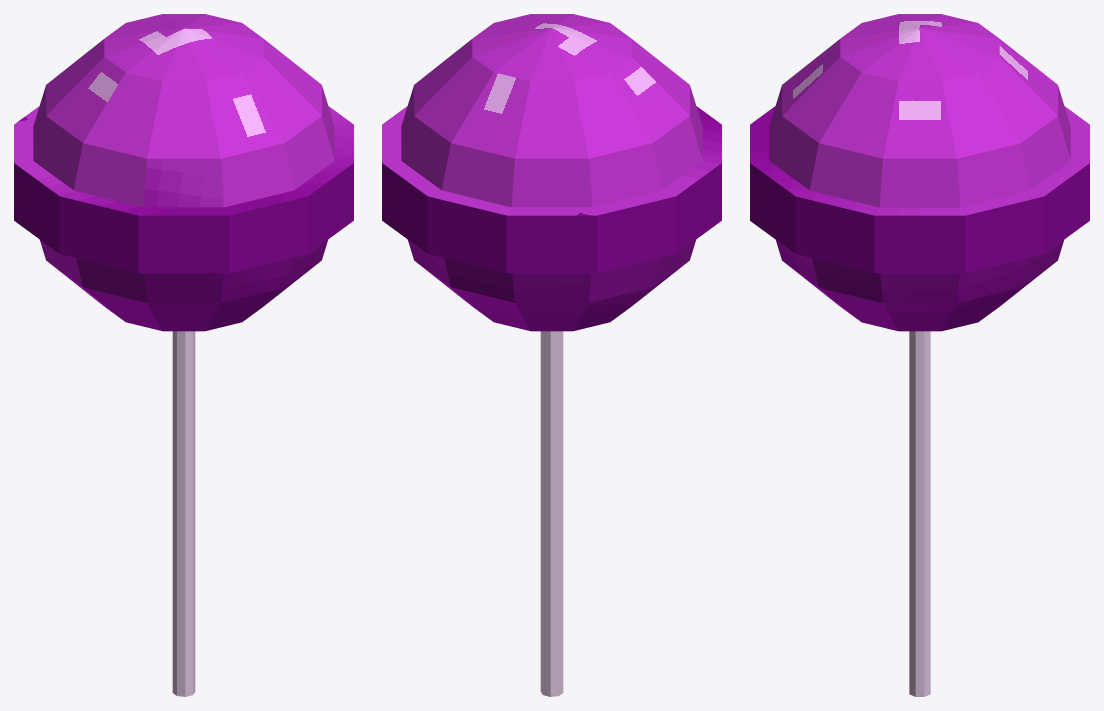
The model's file is Lolipop Purple.gltf.
3 renders of one model, left to right at view 1: azimuth 30°, elevation 25°; view 2: azimuth 150°, elevation 25°; view 3: azimuth 270°, elevation 25°, orthographic.
Parts seen in each view (by area): view 1: sphere, cylinder (×2); view 2: sphere, cylinder (×2); view 3: sphere, cylinder (×2).
Boxes of the visible parts, left/top/right/bottom form: sphere: left=33, top=14, right=334, bottom=331; cylinder (×2): left=14, top=106, right=353, bottom=696; sphere: left=401, top=14, right=702, bottom=331; cylinder (×2): left=382, top=106, right=721, bottom=696; sphere: left=769, top=14, right=1070, bottom=331; cylinder (×2): left=750, top=106, right=1089, bottom=696.
Bounding box in the file's own units: 1 × 2.16 × 1.
Materials: 3 (3 with a texture image).
